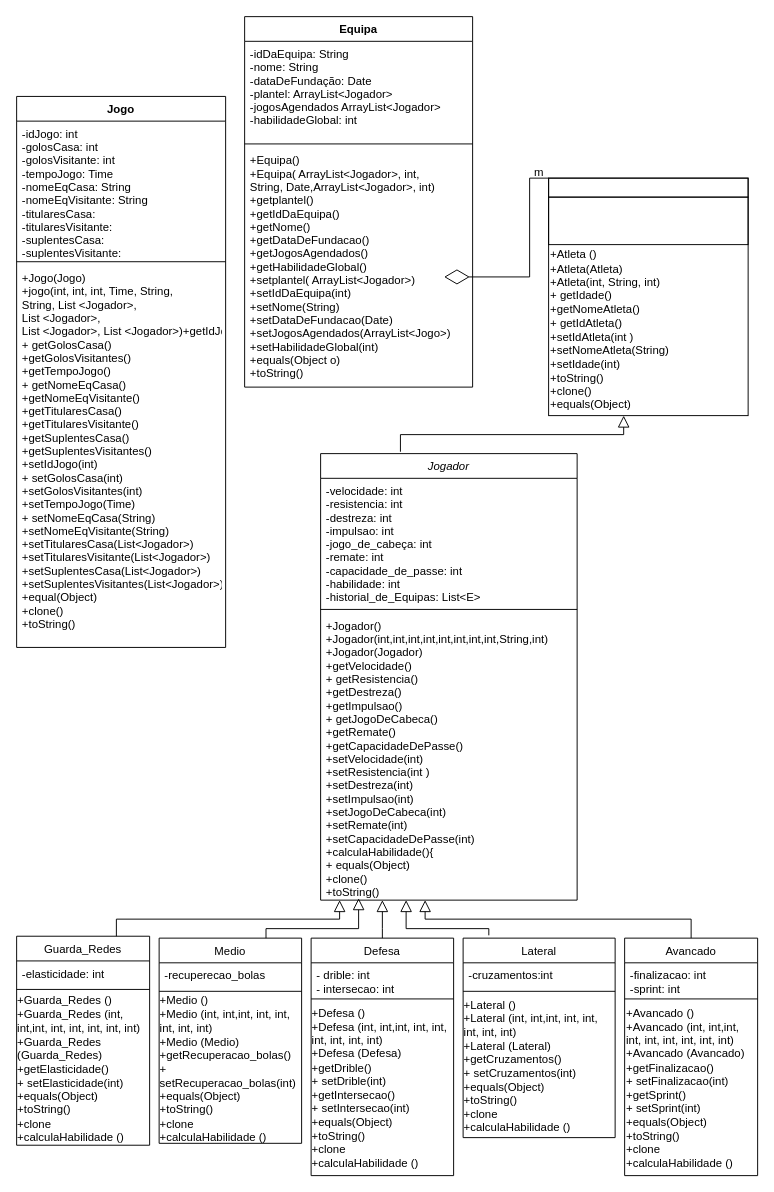
The diagram is 774 pixels wide and 1192 high, and some of its shapes have lost their labels. The centre of each missing label's shape, as x and y in pixels:
"-idAtleta: int -nomeAtleta: String -idade:int" belongs at [648,220].
"Atleta" belongs at [648,187].
